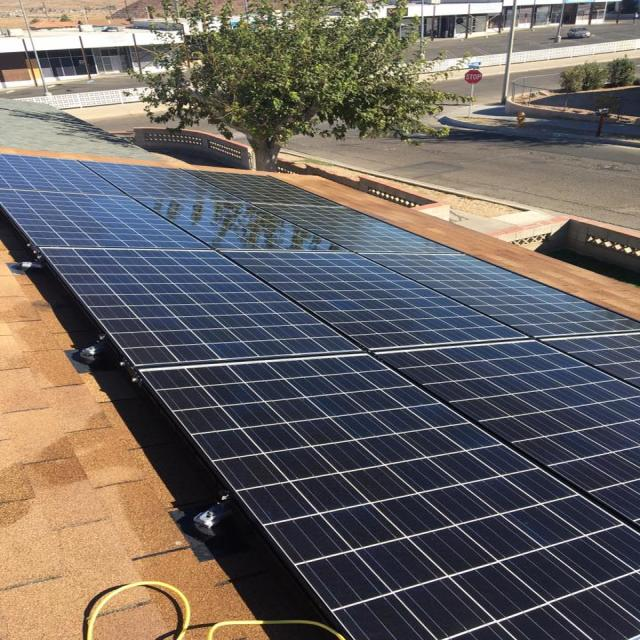clean-solar-panel: (142, 355, 635, 640)
